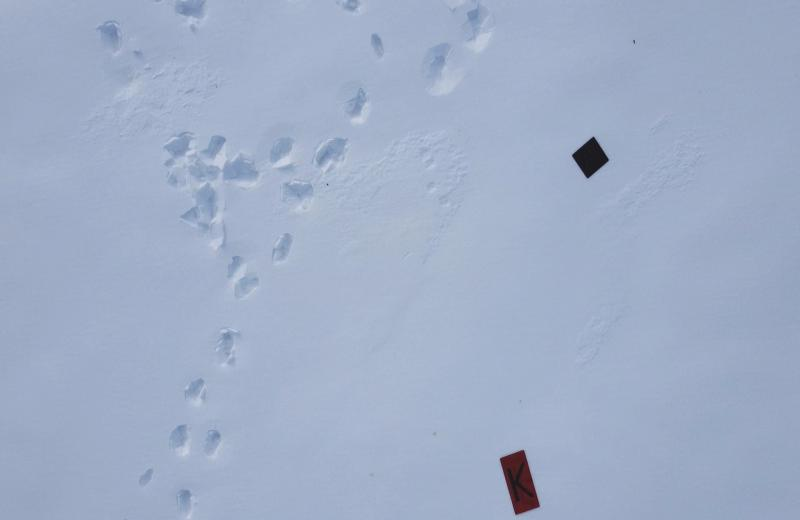Rectangle: (500, 451, 544, 515)
Square: (571, 136, 611, 181)
